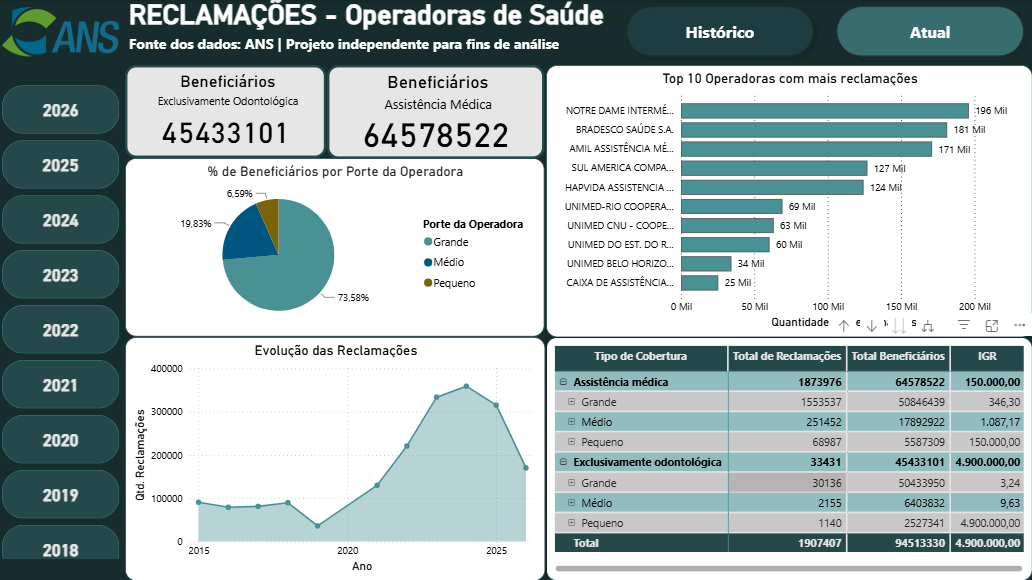

The dashboard page shown, as its layout file describes it:
{"tool":"powerbi","page":{"name":"Histórico","canvas":[1280,720],"ordinal":0},"visuals":[{"type":"pieChart","title":"% de Beneficiários por Porte da Operadora","fields":{"Category":["IGR.PORTE_OPERADORA"],"Y":["IGR.Total Beneficiários Att"]},"box":[157.2,197.2,518.6,220.7],"z":0},{"type":"clusteredBarChart","title":"Top 10 Operadoras com mais reclamações","fields":{"Category":["IGR.RAZAO_SOCIAL"],"Y":["Sum(IGR.QTD_RECLAMACOES)"]},"box":[677.9,81.9,602.1,336.7],"z":1000},{"type":"lineChart","title":"Evolução das Reclamações","fields":{"Category":["IGR.COMPETENCIA.Variation.Hierarquia de datas.Ano","IGR.COMPETENCIA.Variation.Hierarquia de datas.Trimestre","IGR.COMPETENCIA.Variation.Hierarquia de datas.Mês","IGR.COMPETENCIA.Variation.Hierarquia de datas.Dia"],"Y":["Sum(IGR.QTD_RECLAMACOES)"]},"box":[157.1,417.6,519.7,291.9],"z":2000},{"type":"pivotTable","fields":{"Rows":["IGR.COBERTURA","IGR.PORTE_OPERADORA","IGR.RAZAO_SOCIAL"],"Values":["Sum(IGR.QTD_RECLAMACOES)","IGR.Total Beneficiários Att","IGR.Último IGR"]},"box":[678.1,418.9,602.2,290.6],"z":3000},{"type":"advancedSlicerVisual","fields":{"Values":["IGR.COMPETENCIA.Variation.Hierarquia de datas.Ano"]},"box":[0,81.2,155.8,638.8],"z":4000},{"type":"textbox","title":"RECLAMAÇÕES - Operadoras de Saúde","box":[157.7,0,1122.3,80.4],"z":5000},{"type":"card","title":"Beneficiários","fields":{"Values":["IGR.Total Beneficiários Att"]},"box":[157.7,81.9,248.7,115.3],"z":6000},{"type":"card","title":"Beneficiários","fields":{"Values":["IGR.Total Beneficiários Att"]},"box":[406.9,81.4,269,115.9],"z":7000},{"type":"image","box":[0,0,157.2,80.8],"z":8000},{"type":"pageNavigator","box":[768.5,0,511.3,80.8],"z":9000}]}

Visuals, with their boxes in screenshot pixels (x1, y1, x2, y2), scaled from the page's 1280x720 canvas onto the 1032x580 screenshot:
"% de Beneficiários por Porte da Operadora" pieChart: region(127, 159, 545, 337)
"Top 10 Operadoras com mais reclamações" clusteredBarChart: region(547, 66, 1031, 337)
"Evolução das Reclamações" lineChart: region(127, 336, 546, 572)
pivotTable - IGR.COBERTURA x IGR.PORTE_OPERADORA: region(547, 337, 1031, 572)
advancedSlicerVisual - IGR.COMPETENCIA.Variation.Hierarquia de datas.Ano: region(0, 65, 126, 579)
"RECLAMAÇÕES - Operadoras de Saúde" textbox: region(127, 0, 1031, 65)
"Beneficiários" card: region(127, 66, 328, 159)
"Beneficiários" card: region(328, 66, 545, 159)
image: region(0, 0, 127, 65)
pageNavigator: region(620, 0, 1031, 65)
